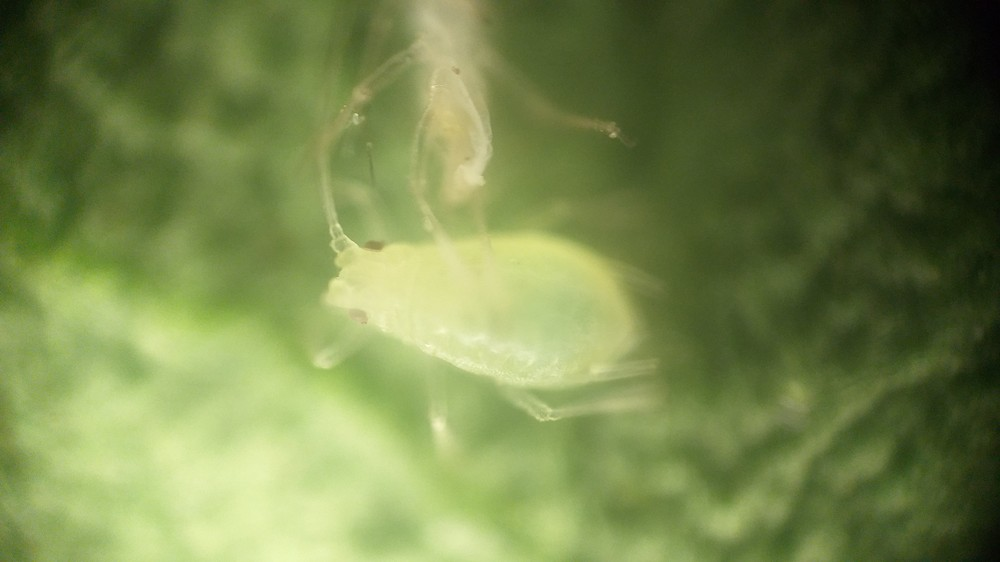Pulgon: (279, 139, 736, 475)
